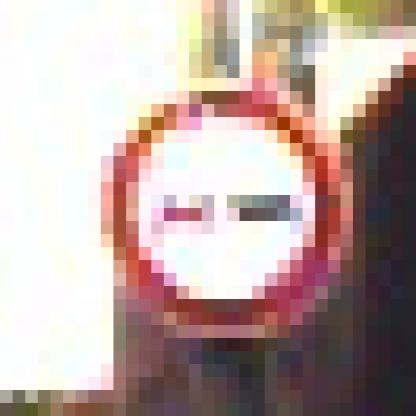No Overtaking: (77, 66, 354, 352)
